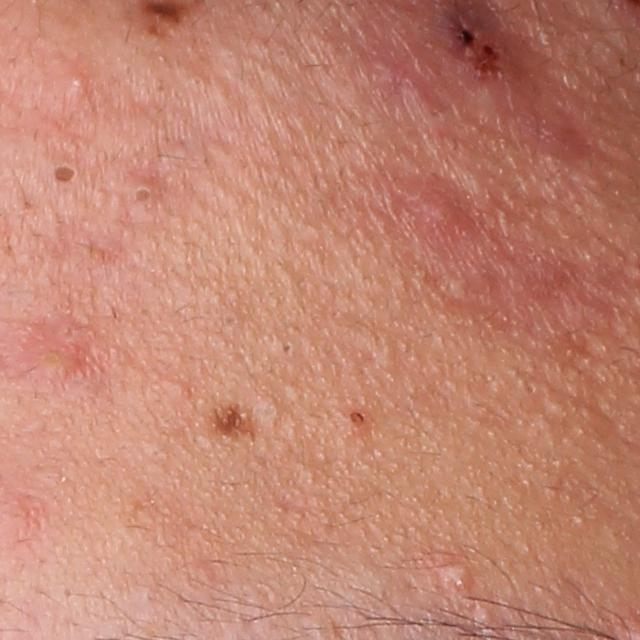comedo: (52, 162, 79, 185), (473, 603, 494, 628), (346, 410, 366, 430)
papule: (389, 172, 470, 240), (33, 336, 78, 384), (440, 560, 468, 588)
